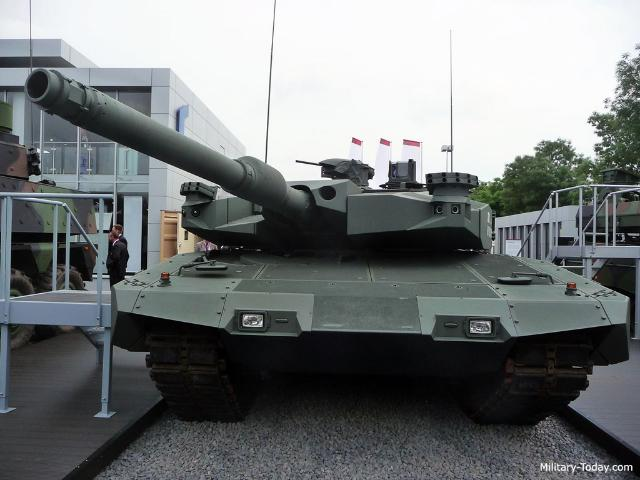other: (107, 232, 119, 286)
tank: (128, 167, 628, 426), (0, 120, 94, 332)
